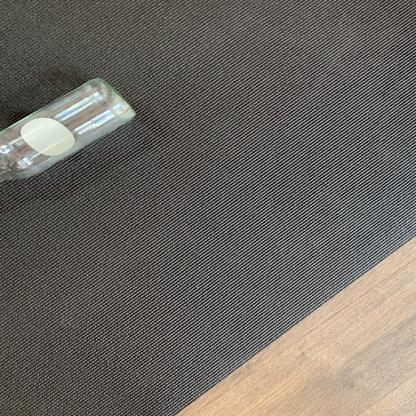trash: (0, 74, 141, 183)
